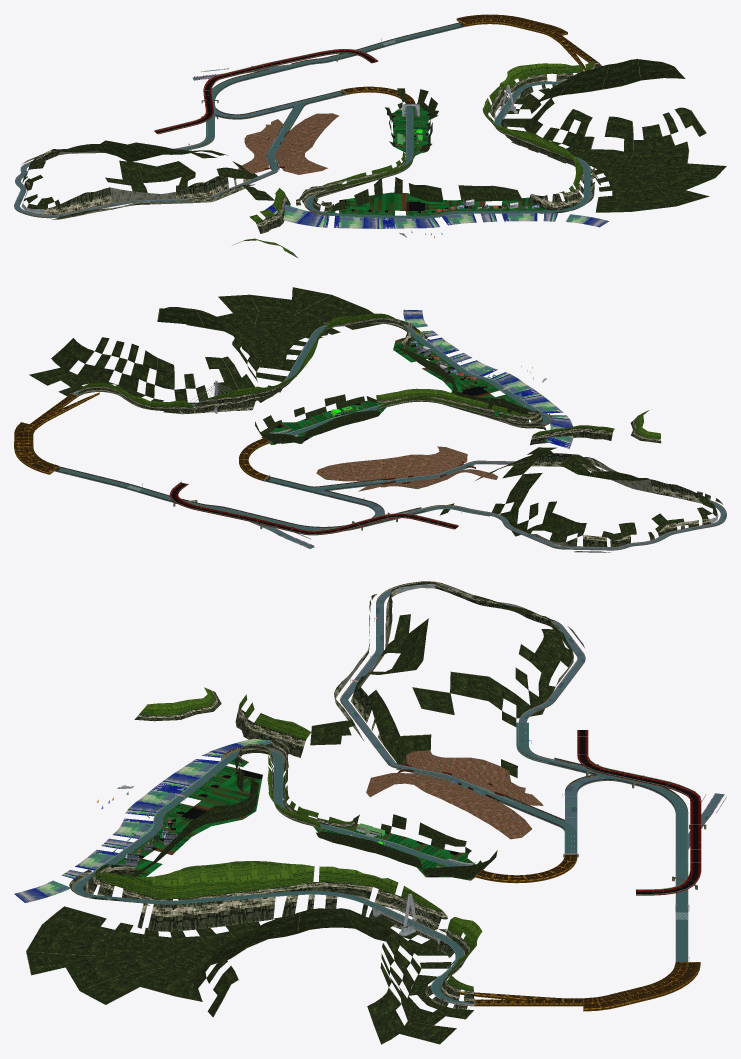
Rendered from track.glb.
The picture shows the model from 3 angles, top to bottom: view 1: azimuth 30°, elevation 25°; view 2: azimuth 150°, elevation 25°; view 3: azimuth 270°, elevation 25°; orthographic projection. The views are drawn at different scales.
Visible parts, largest first — view 1: track; view 2: track; view 3: track.
Boxes of the visible parts, x1=… form: track: x1=14, y1=14, x2=726, y2=257; track: x1=14, y1=287, x2=726, y2=552; track: x1=14, y1=581, x2=726, y2=1044.
Size of the model in its own units: 222 by 17.02 by 152.
1 material, 1 textured.
